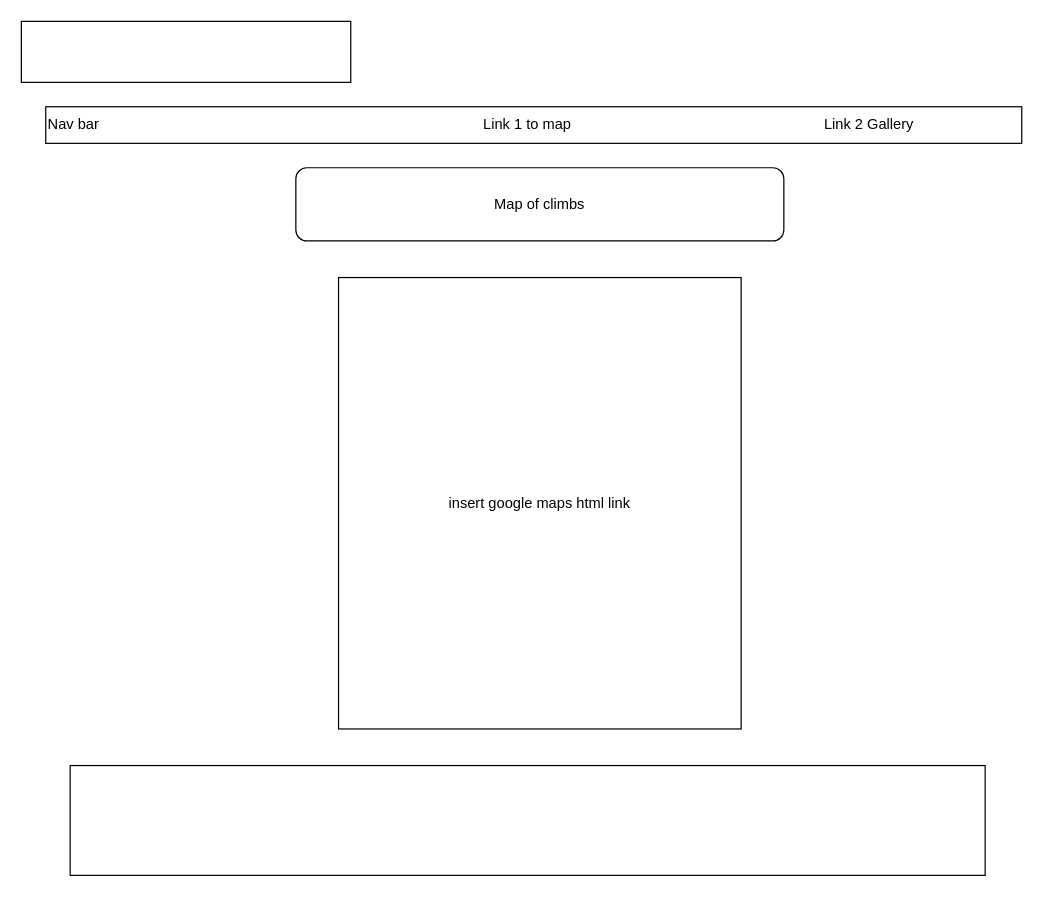
The diagram is 1043 pixels wide and 897 high, and some of its shapes have lost their labels. Each missing label, with the centre of its shape:
Header 1 Homepage: pixel 185 51
Text describing the map Continents: countries, etc: pixel 527 819
